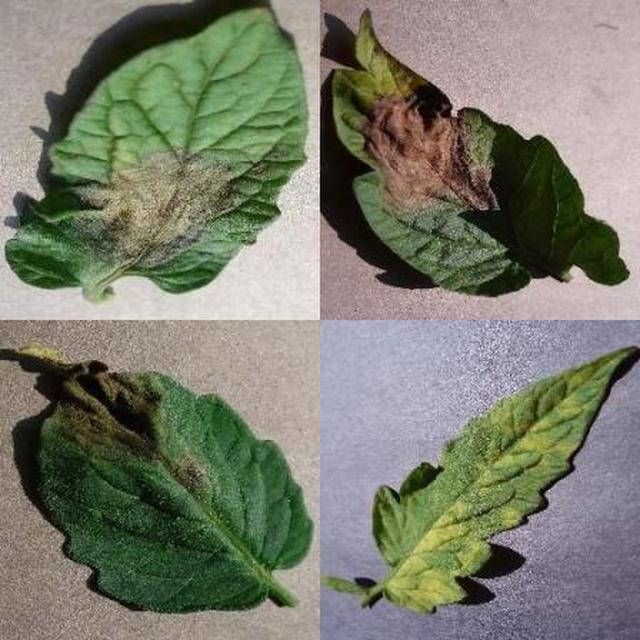Late Blight Leaf: (224, 216, 640, 640)
